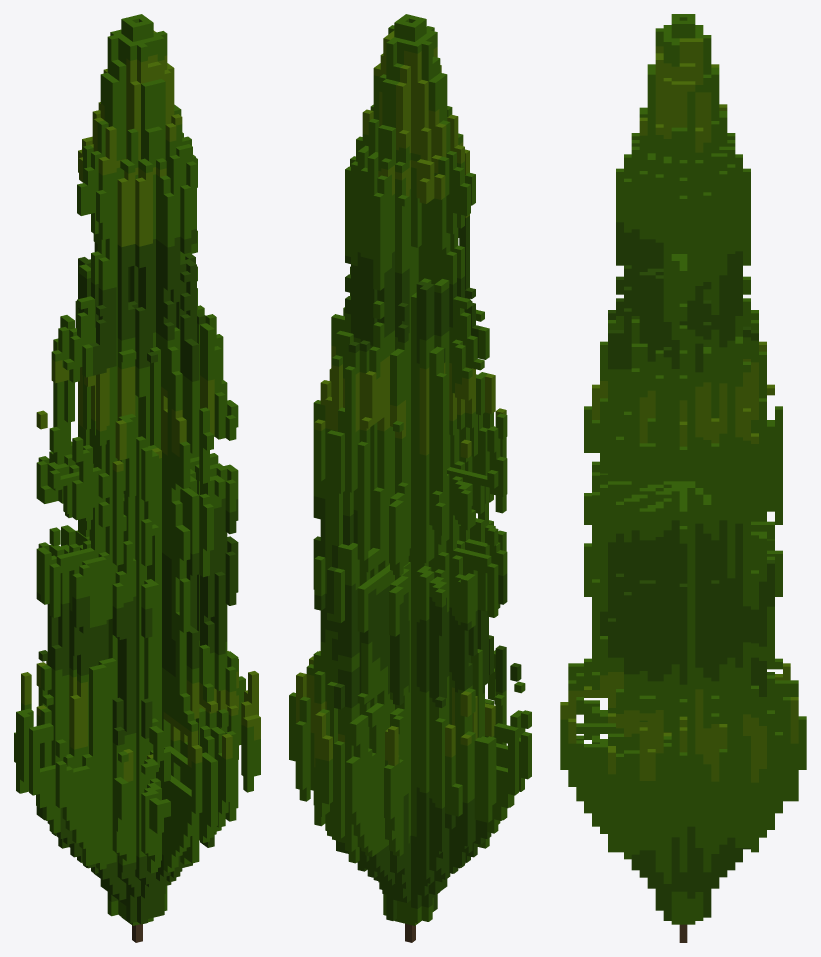
The picture shows the model from 3 angles, left to right: view 1: azimuth 30°, elevation 25°; view 2: azimuth 150°, elevation 25°; view 3: azimuth 270°, elevation 25°; orthographic projection.
Visible parts, largest first — view 1: VOX; view 2: VOX; view 3: VOX.
Boxes of the visible parts, x1,y1,x2,y2 form: VOX: (14,14,260,942); VOX: (289,14,531,942); VOX: (560,14,806,942).
Bounding box in the file's own units: 0.031 × 0.128 × 0.031.
